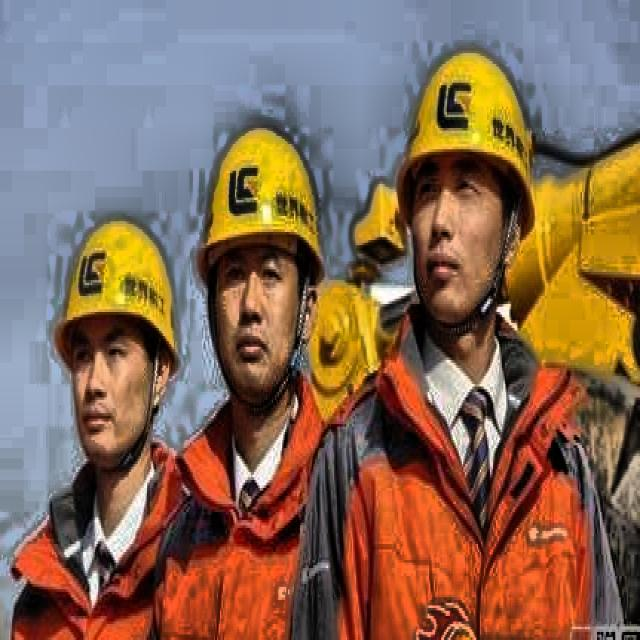helmet: (380, 19, 553, 362), (187, 96, 340, 440), (39, 184, 187, 496)
